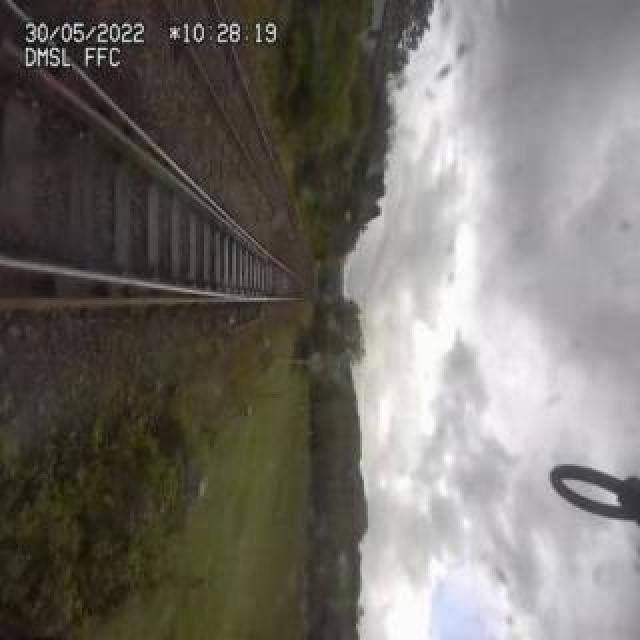rusted-track: (0, 288, 180, 328)
